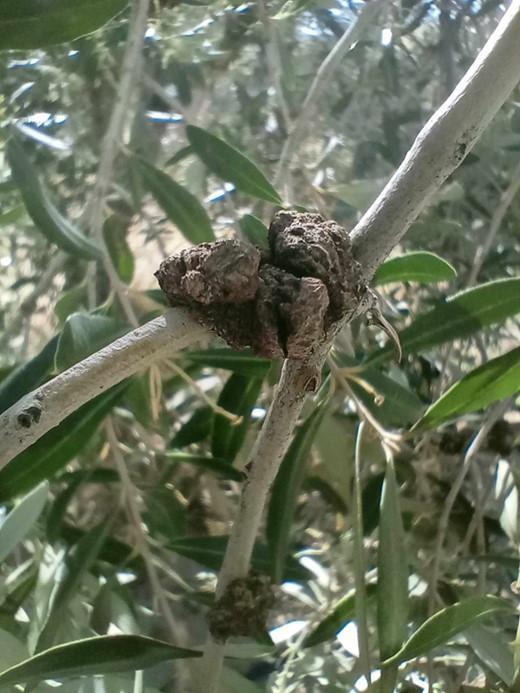Tuberculosis: (152, 195, 380, 367), (202, 568, 284, 651)
